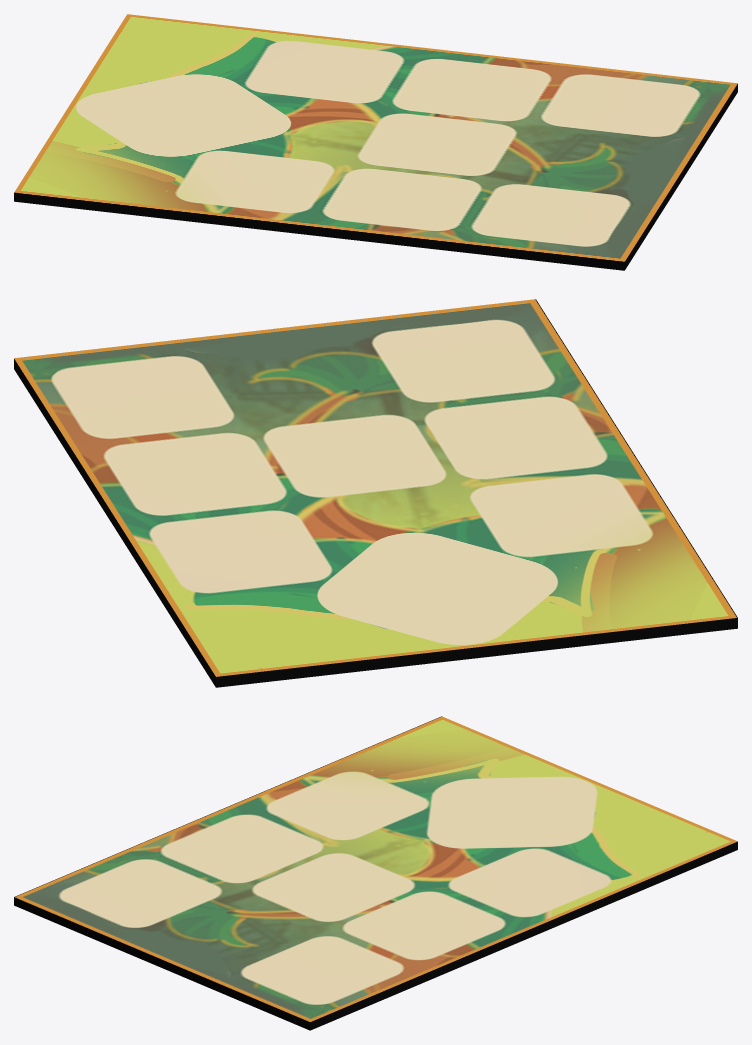
Rendered from sigil_slot_1.glb.
The picture shows the model from 3 angles, top to bottom: view 1: azimuth 30°, elevation 25°; view 2: azimuth 150°, elevation 25°; view 3: azimuth 270°, elevation 25°; orthographic projection. The views are drawn at different scales.
Visible parts, largest first — view 1: Sigil_slot_1; view 2: Sigil_slot_1; view 3: Sigil_slot_1.
Boxes of the visible parts, <box> form: Sigil_slot_1: <box>14,14,737,270</box>; Sigil_slot_1: <box>14,299,737,687</box>; Sigil_slot_1: <box>14,716,737,1030</box>.
Size of the model in its own units: 4.34 by 0.0557 by 4.34.
1 material, 1 textured.
